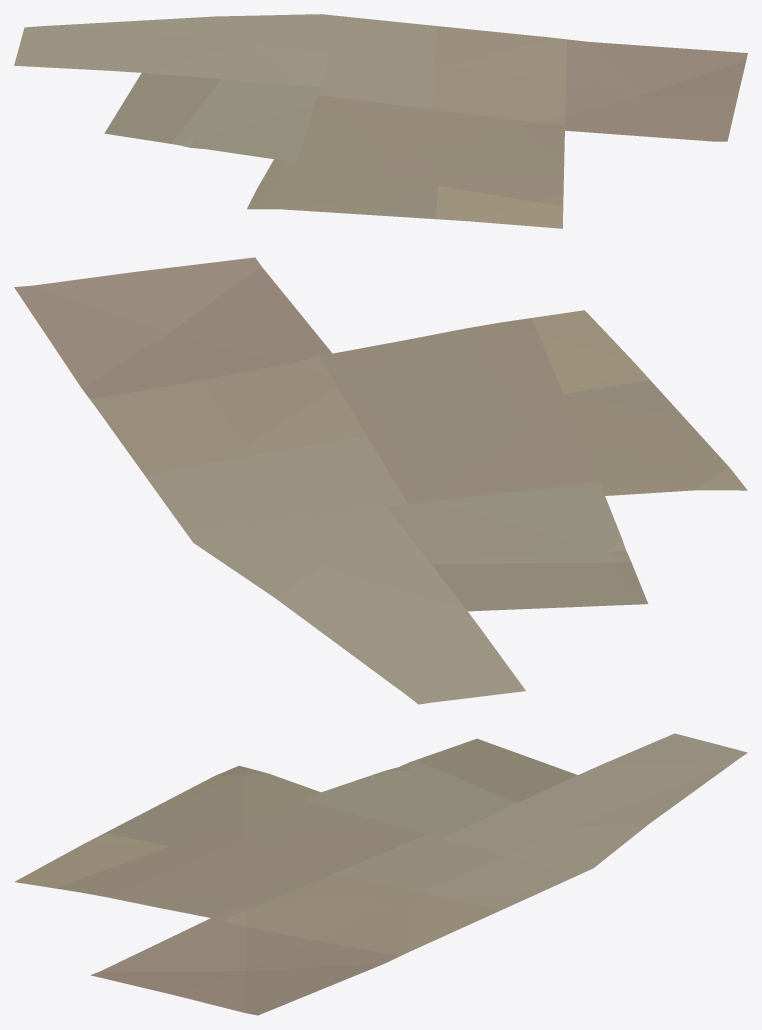
The model's file is farm_-24_-22_soil.glb.
3 views of the same model, one above another, from view 1: azimuth 30°, elevation 25°; view 2: azimuth 150°, elevation 25°; view 3: azimuth 270°, elevation 25° (orthographic). The views are drawn at different scales.
Visible parts, largest first — view 1: geometry_0; view 2: geometry_0; view 3: geometry_0.
Boxes of the visible parts, <box> form: geometry_0: <box>14,14,747,228</box>; geometry_0: <box>14,257,747,704</box>; geometry_0: <box>14,733,747,1015</box>.
Size of the model in its own units: 344 by 15.37 by 357.
